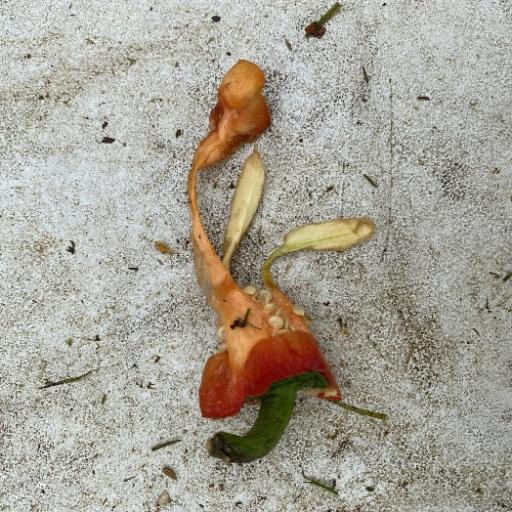Waste: (184, 58, 386, 465)
